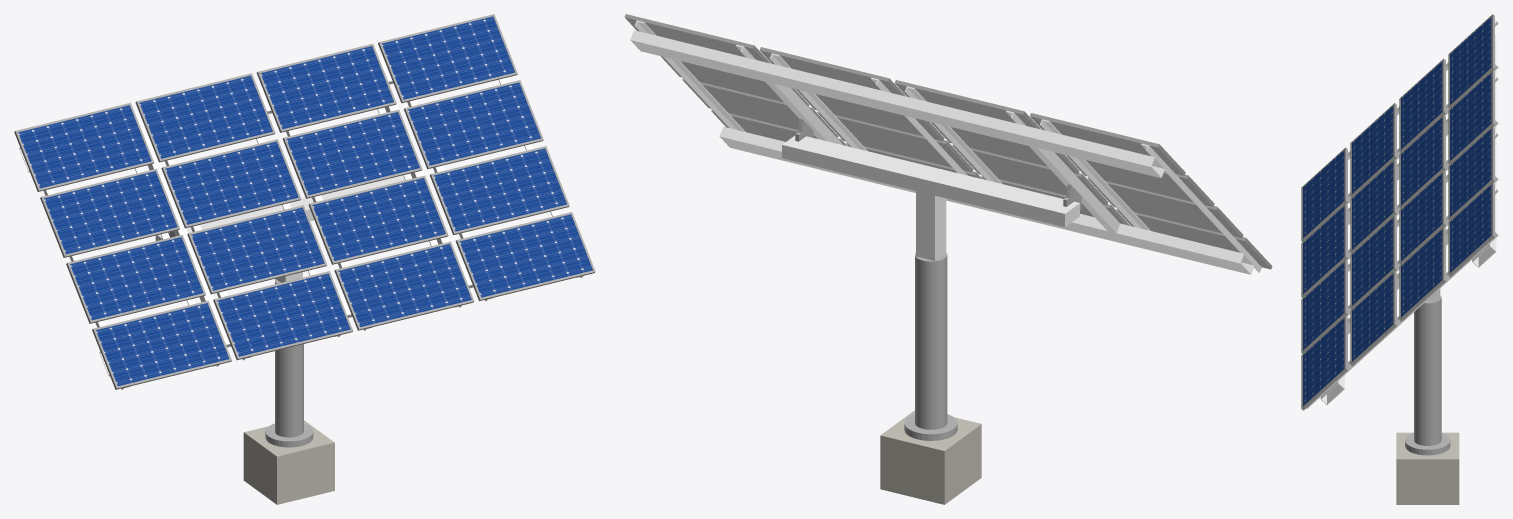
3 renders of one model, left to right at view 1: azimuth 30°, elevation 25°; view 2: azimuth 150°, elevation 25°; view 3: azimuth 270°, elevation 25°, orthographic. The views are drawn at different scales.
Parts seen in each view (by area): view 1: panel_array, conc_base, base_cylinder, base_mount; view 2: panel_array, base_mount, conc_base, base_cylinder, base_tube; view 3: panel_array, base_cylinder, conc_base.
Boxes of the visible parts, left/top/right/bottom form: panel_array: left=14, top=14, right=595, bottom=389; conc_base: left=243, top=420, right=334, bottom=504; base_cylinder: left=265, top=279, right=313, bottom=447; base_mount: left=155, top=175, right=404, bottom=240; panel_array: left=624, top=14, right=1272, bottom=274; base_mount: left=782, top=135, right=1079, bottom=227; conc_base: left=880, top=410, right=981, bottom=504; base_cylinder: left=904, top=252, right=957, bottom=440; base_tube: left=916, top=191, right=946, bottom=260; panel_array: left=1301, top=14, right=1498, bottom=410; base_cylinder: left=1405, top=295, right=1450, bottom=455; conc_base: left=1396, top=432, right=1459, bottom=504.
Bounding box in the file's own units: 8.3 × 3.14 × 6.43.
5 materials, 1 textured.
